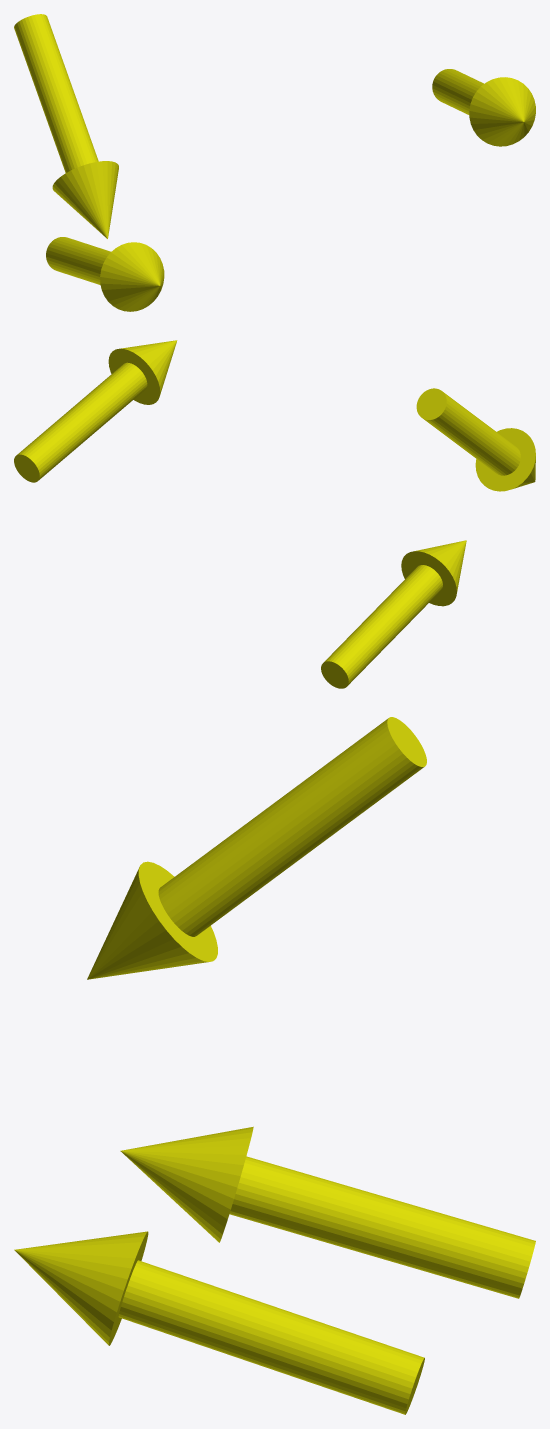
The model's file is forcemap.glb.
3 renders of one model, top to bottom at view 1: azimuth 30°, elevation 25°; view 2: azimuth 150°, elevation 25°; view 3: azimuth 270°, elevation 25°, orthographic. The views are drawn at different scales.
Parts seen in each view (by area): view 1: world; view 2: world; view 3: world.
Boxes of the visible parts, x1,y1,x2,y2 form: world: (14,14,535,311); world: (14,340,535,688); world: (14,717,535,1414).
Bounding box in the file's own units: 0.0627 × 0.0378 × 0.0344.
